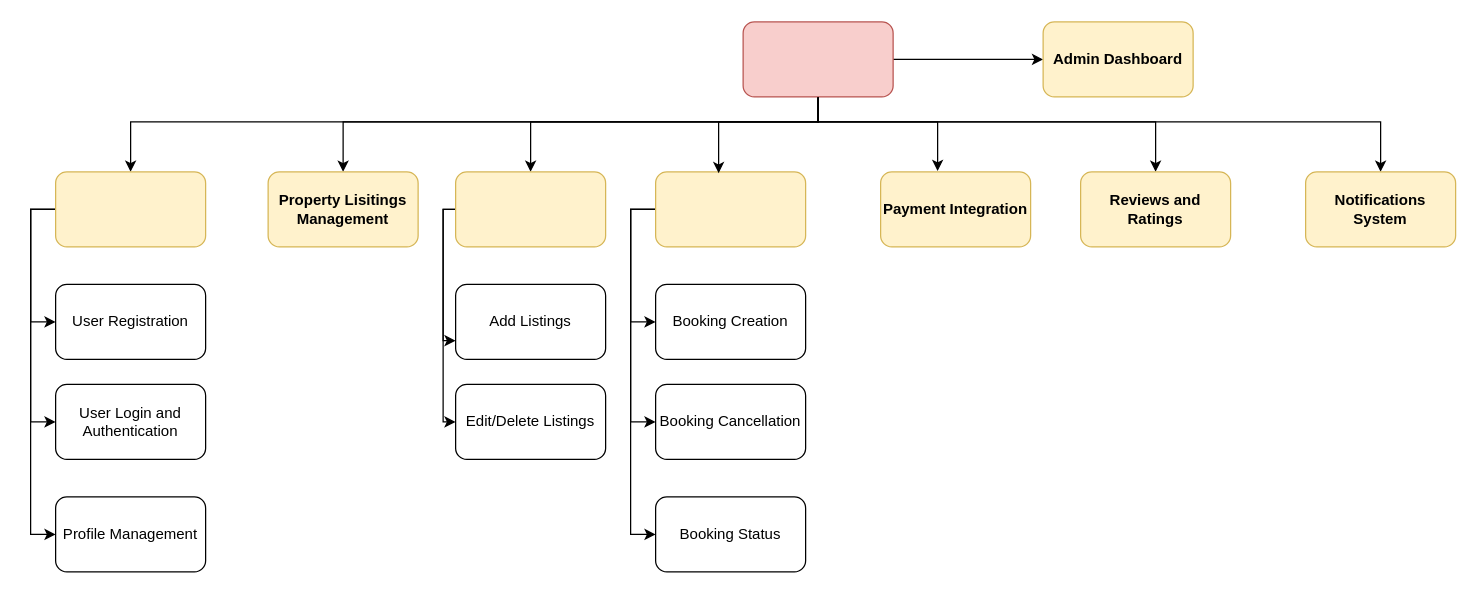
Image size: 1478x594. Some labels were removed from this diagram. The shapes that lost their labels are listed below. From the top down, each one's centre as x and y in pixels, then its label:
the point at 817,59: Backend Features and Functionalities
the point at 130,209: User Management
the point at 530,209: Search and Filtering
the point at 730,209: Booking Management
